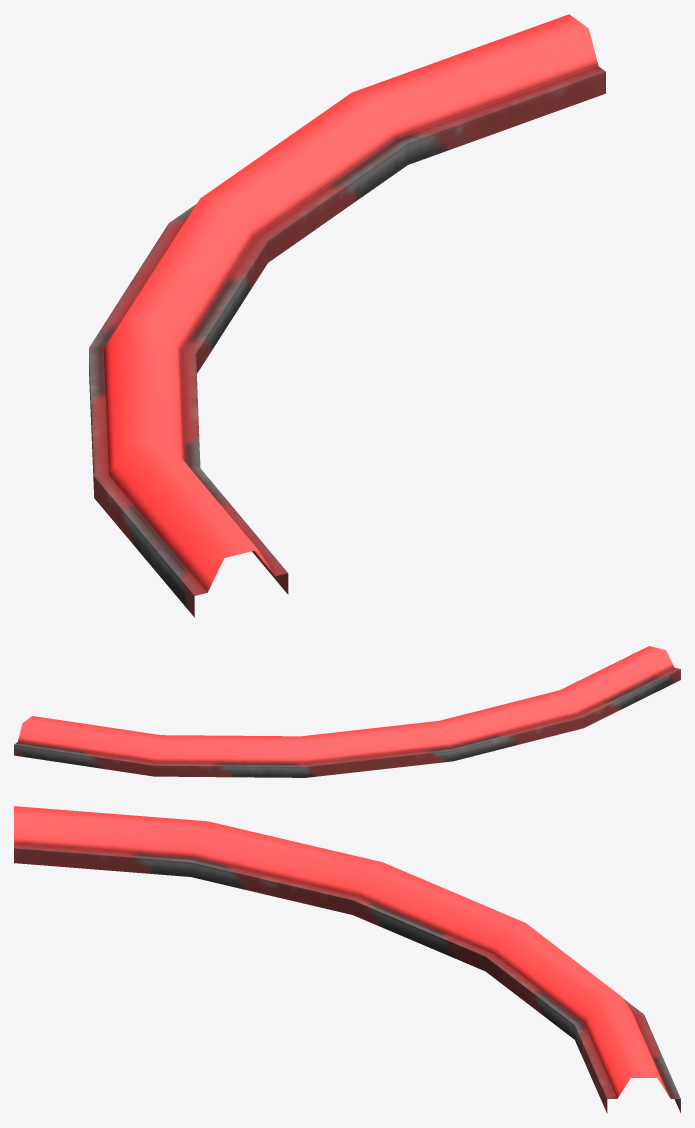
The model's file is Way_M90.fbx.
3 views of the same model, one above another, from view 1: azimuth 30°, elevation 25°; view 2: azimuth 150°, elevation 25°; view 3: azimuth 270°, elevation 25° (orthographic). The views are drawn at different scales.
Visible parts, largest first — view 1: Way_M90; view 2: Way_M90; view 3: Way_M90.
Part boxes in pixels (x1,y1,x2,y2): Way_M90: (89, 14, 605, 617); Way_M90: (14, 646, 680, 777); Way_M90: (14, 806, 680, 1113).
Size of the model in its own units: 2.12 by 0.1253 by 2.12.
